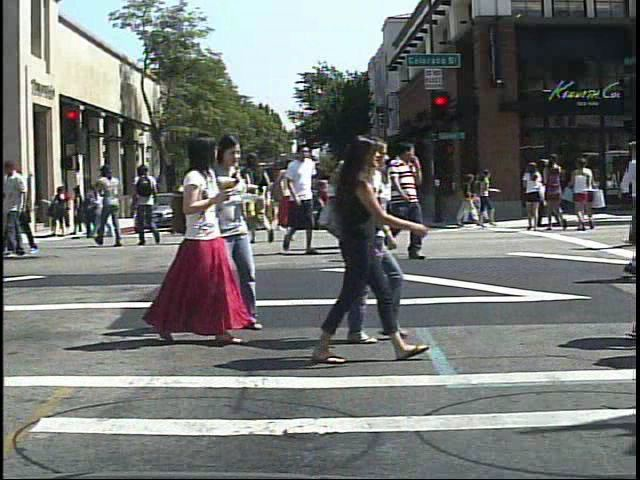person: (302, 128, 413, 365), (317, 136, 419, 347), (160, 129, 242, 347), (212, 129, 265, 332), (377, 135, 432, 262), (372, 136, 418, 261), (279, 139, 319, 259), (346, 138, 385, 250), (367, 142, 404, 250), (243, 145, 281, 247), (128, 160, 169, 251), (93, 161, 130, 250), (276, 147, 308, 248), (520, 157, 547, 235), (278, 164, 298, 233), (58, 183, 78, 233)
